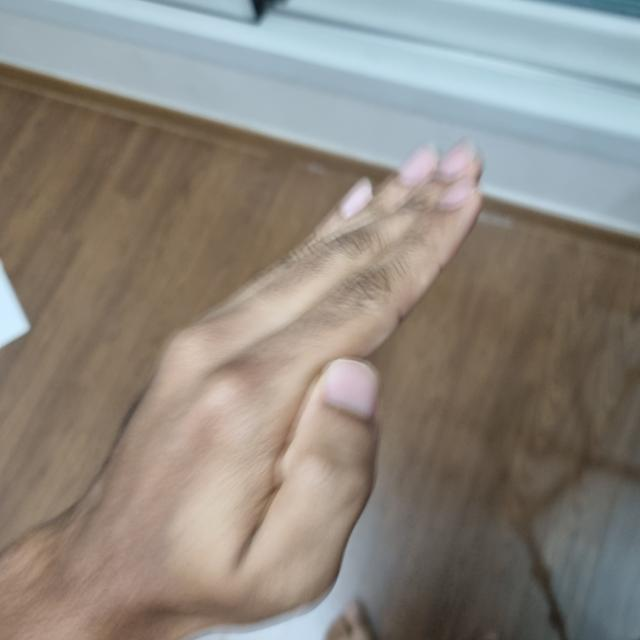Paper: (76, 145, 481, 632)
